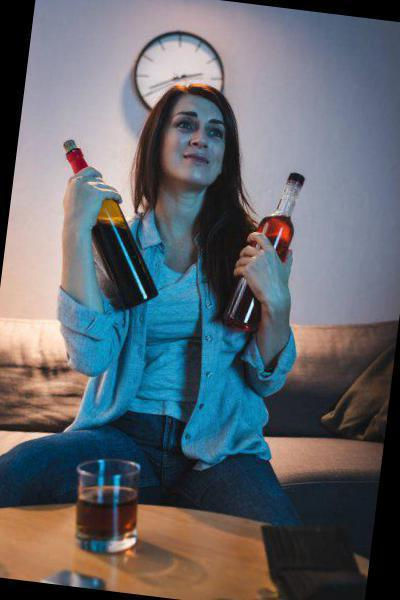Drunk: (168, 92, 228, 186)
